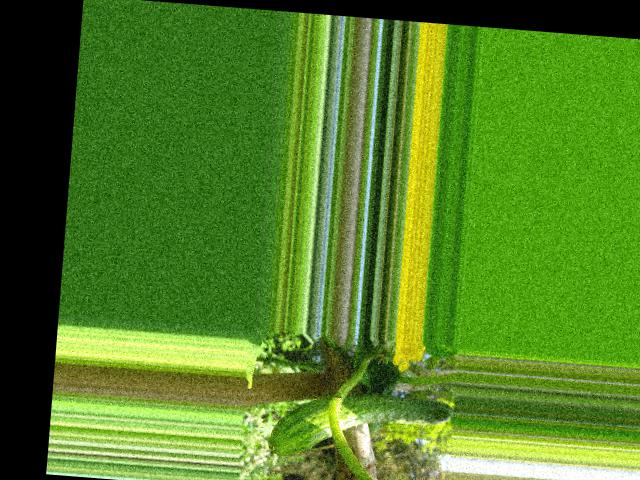cucumber: (267, 386, 455, 467)
